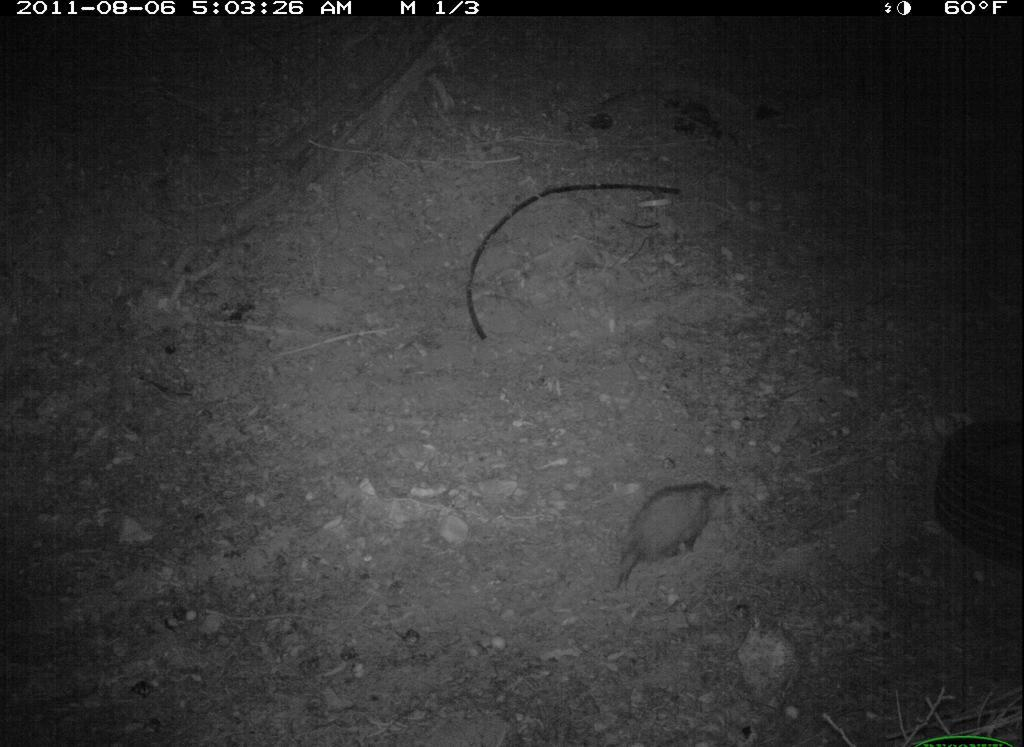opossum: (596, 459, 757, 593)
